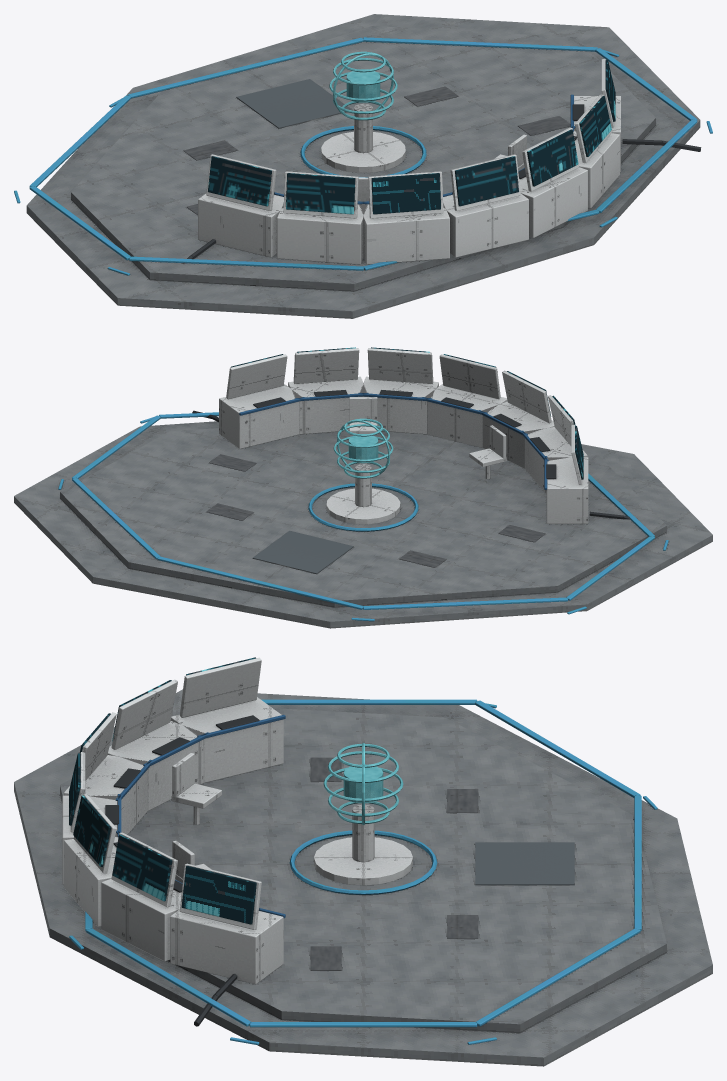
Rendered from base_command_dais.glb.
3 renders of one model, top to bottom at view 1: azimuth 30°, elevation 25°; view 2: azimuth 150°, elevation 25°; view 3: azimuth 270°, elevation 25°, orthographic. The views are drawn at different scales.
Visible parts, largest first — view 1: base_command_dais; view 2: base_command_dais; view 3: base_command_dais.
Part boxes in pixels (x1,y1,x2,y2): base_command_dais: (14, 14, 712, 318); base_command_dais: (14, 347, 712, 628); base_command_dais: (14, 657, 712, 1066).
Bounding box in the file's own units: 14.04 × 2.41 × 11.26.
Materials: 10 (10 with a texture image).
